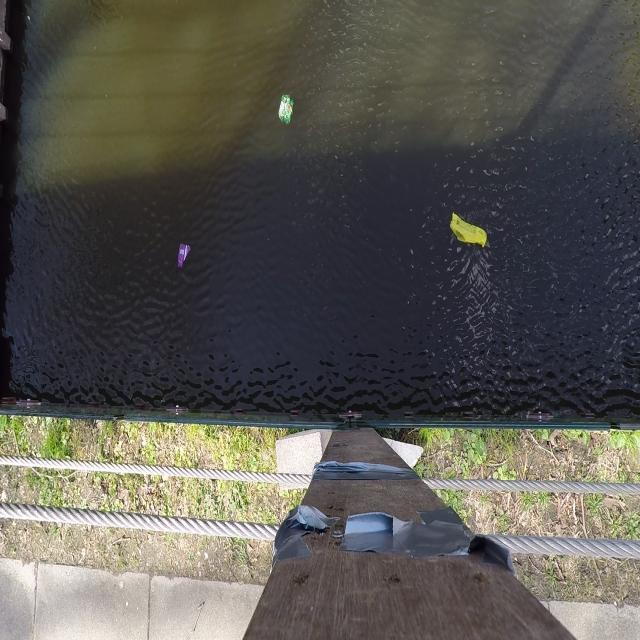Autre plastique: (449, 210, 489, 252)
